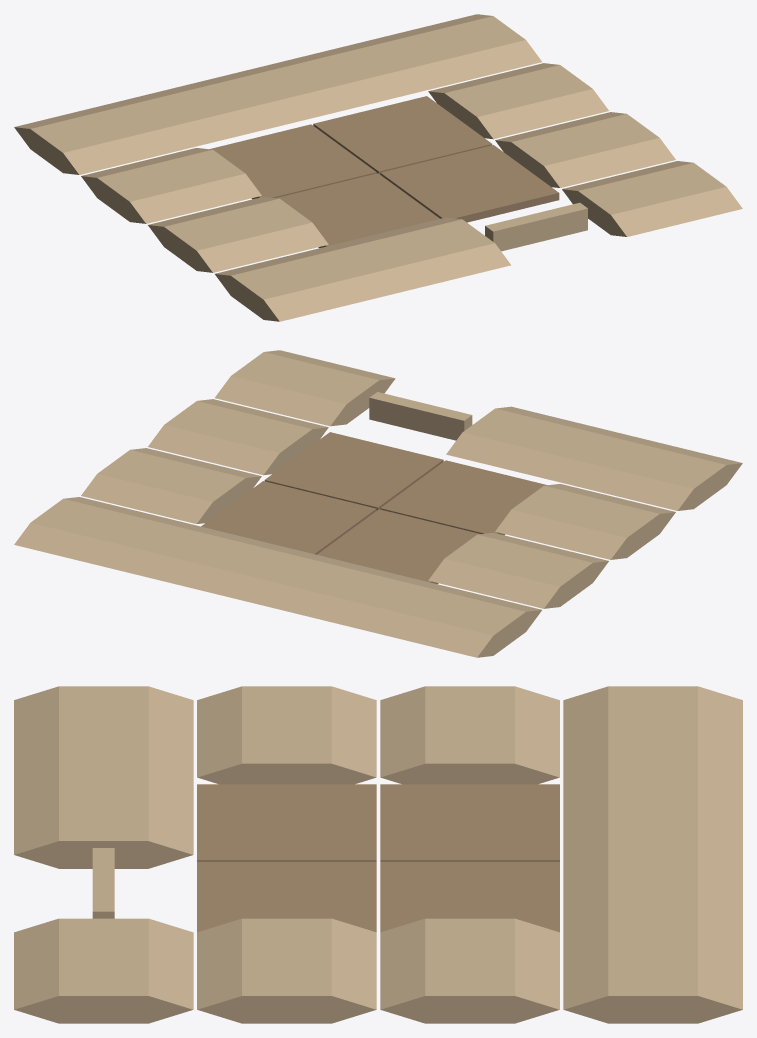
File: building_storehouse_foundation.glb
3 renders of one model, top to bottom at view 1: azimuth 30°, elevation 25°; view 2: azimuth 150°, elevation 25°; view 3: azimuth 270°, elevation 25°, orthographic. The views are drawn at different scales.
Visible parts, largest first — view 1: building_storehouse_foundation; view 2: building_storehouse_foundation; view 3: building_storehouse_foundation.
Part boxes in pixels (bbox=[...]): building_storehouse_foundation: bbox=[14, 14, 742, 321]; building_storehouse_foundation: bbox=[14, 350, 742, 657]; building_storehouse_foundation: bbox=[14, 686, 742, 1023].
Bounding box in the file's own units: 4 × 0.18 × 3.98.
